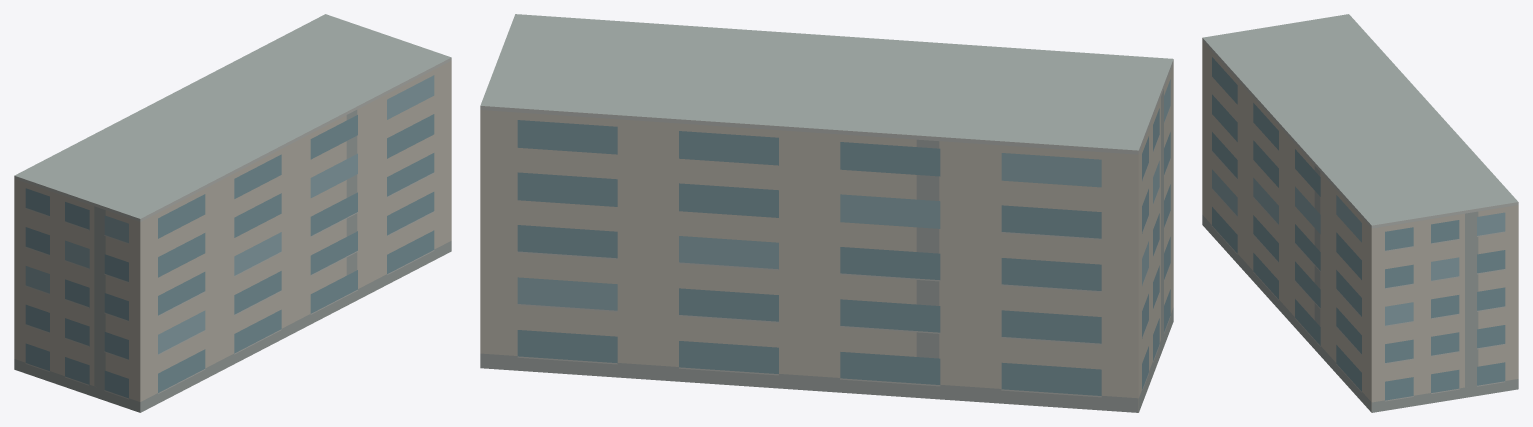
File: residential-bf618d55-d376-453e-8587-ab2c8d7e7b4b.glb
3 views of the same model, side by side, from view 1: azimuth 30°, elevation 25°; view 2: azimuth 150°, elevation 25°; view 3: azimuth 270°, elevation 25° (orthographic). The views are drawn at different scales.
Parts seen in each view (by area): view 1: residential-bf618d55-d376-453e-8587-ab2c8d7e7b4b.tmp; view 2: residential-bf618d55-d376-453e-8587-ab2c8d7e7b4b.tmp; view 3: residential-bf618d55-d376-453e-8587-ab2c8d7e7b4b.tmp.
Boxes of the visible parts, left/top/right/bottom form: residential-bf618d55-d376-453e-8587-ab2c8d7e7b4b.tmp: left=14, top=14, right=451, bottom=412; residential-bf618d55-d376-453e-8587-ab2c8d7e7b4b.tmp: left=480, top=14, right=1173, bottom=412; residential-bf618d55-d376-453e-8587-ab2c8d7e7b4b.tmp: left=1202, top=14, right=1518, bottom=412.
Size of the model in its own units: 36.97 by 15.25 by 23.34.
